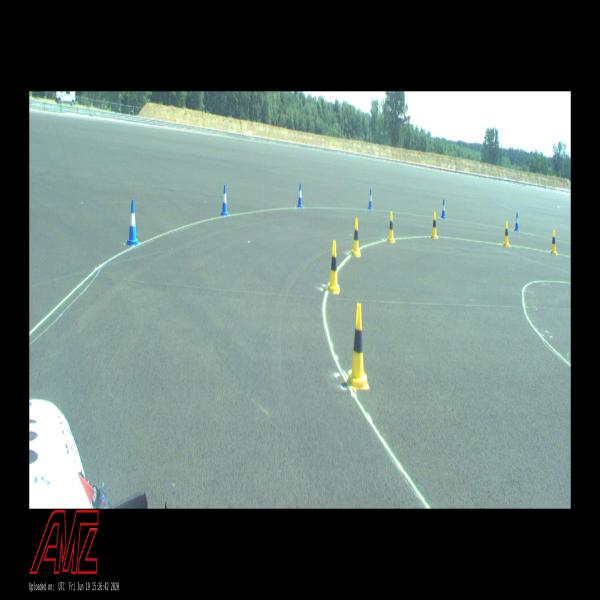blue_cone: (126, 200, 139, 245), (220, 185, 229, 216), (297, 183, 303, 208), (514, 212, 519, 231), (441, 200, 446, 218), (368, 190, 372, 209)
yellow_cone: (346, 304, 370, 389), (328, 240, 340, 293), (352, 218, 360, 256), (387, 211, 396, 243), (503, 222, 511, 247), (549, 230, 557, 254), (431, 212, 438, 239)
